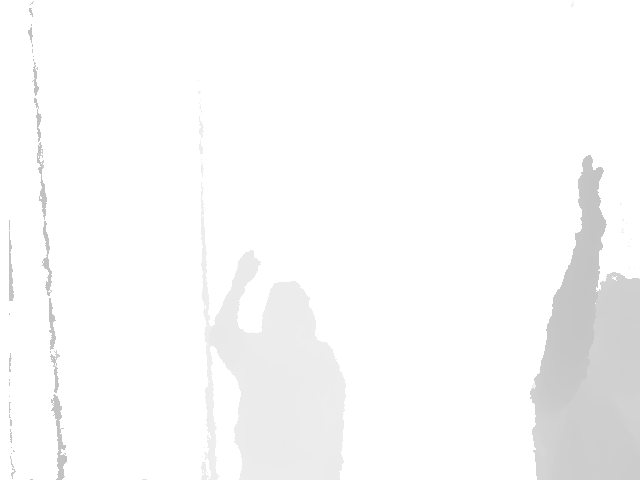hand: (577, 155, 603, 211), (232, 250, 261, 287)
head: (263, 282, 315, 350)
person: (527, 155, 640, 480), (209, 250, 348, 480)
